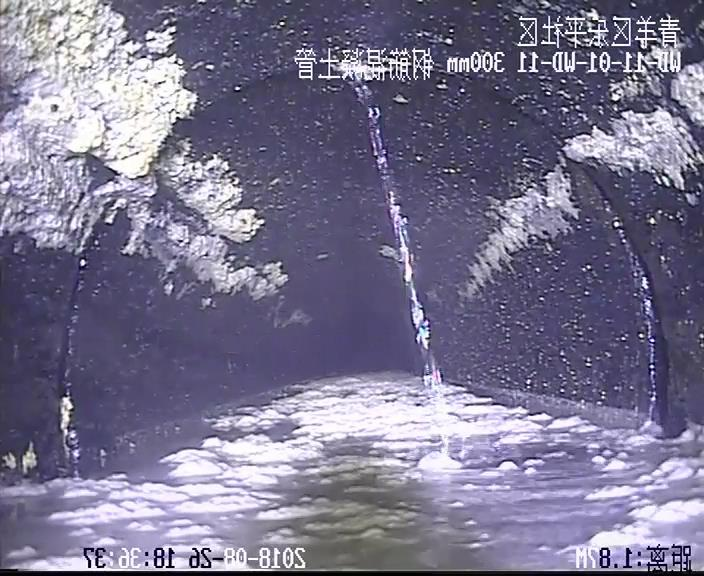CKTJ: (318, 48, 473, 488)
FZ: (1, 374, 704, 568)
JG: (1, 0, 310, 327), (464, 0, 704, 296)
